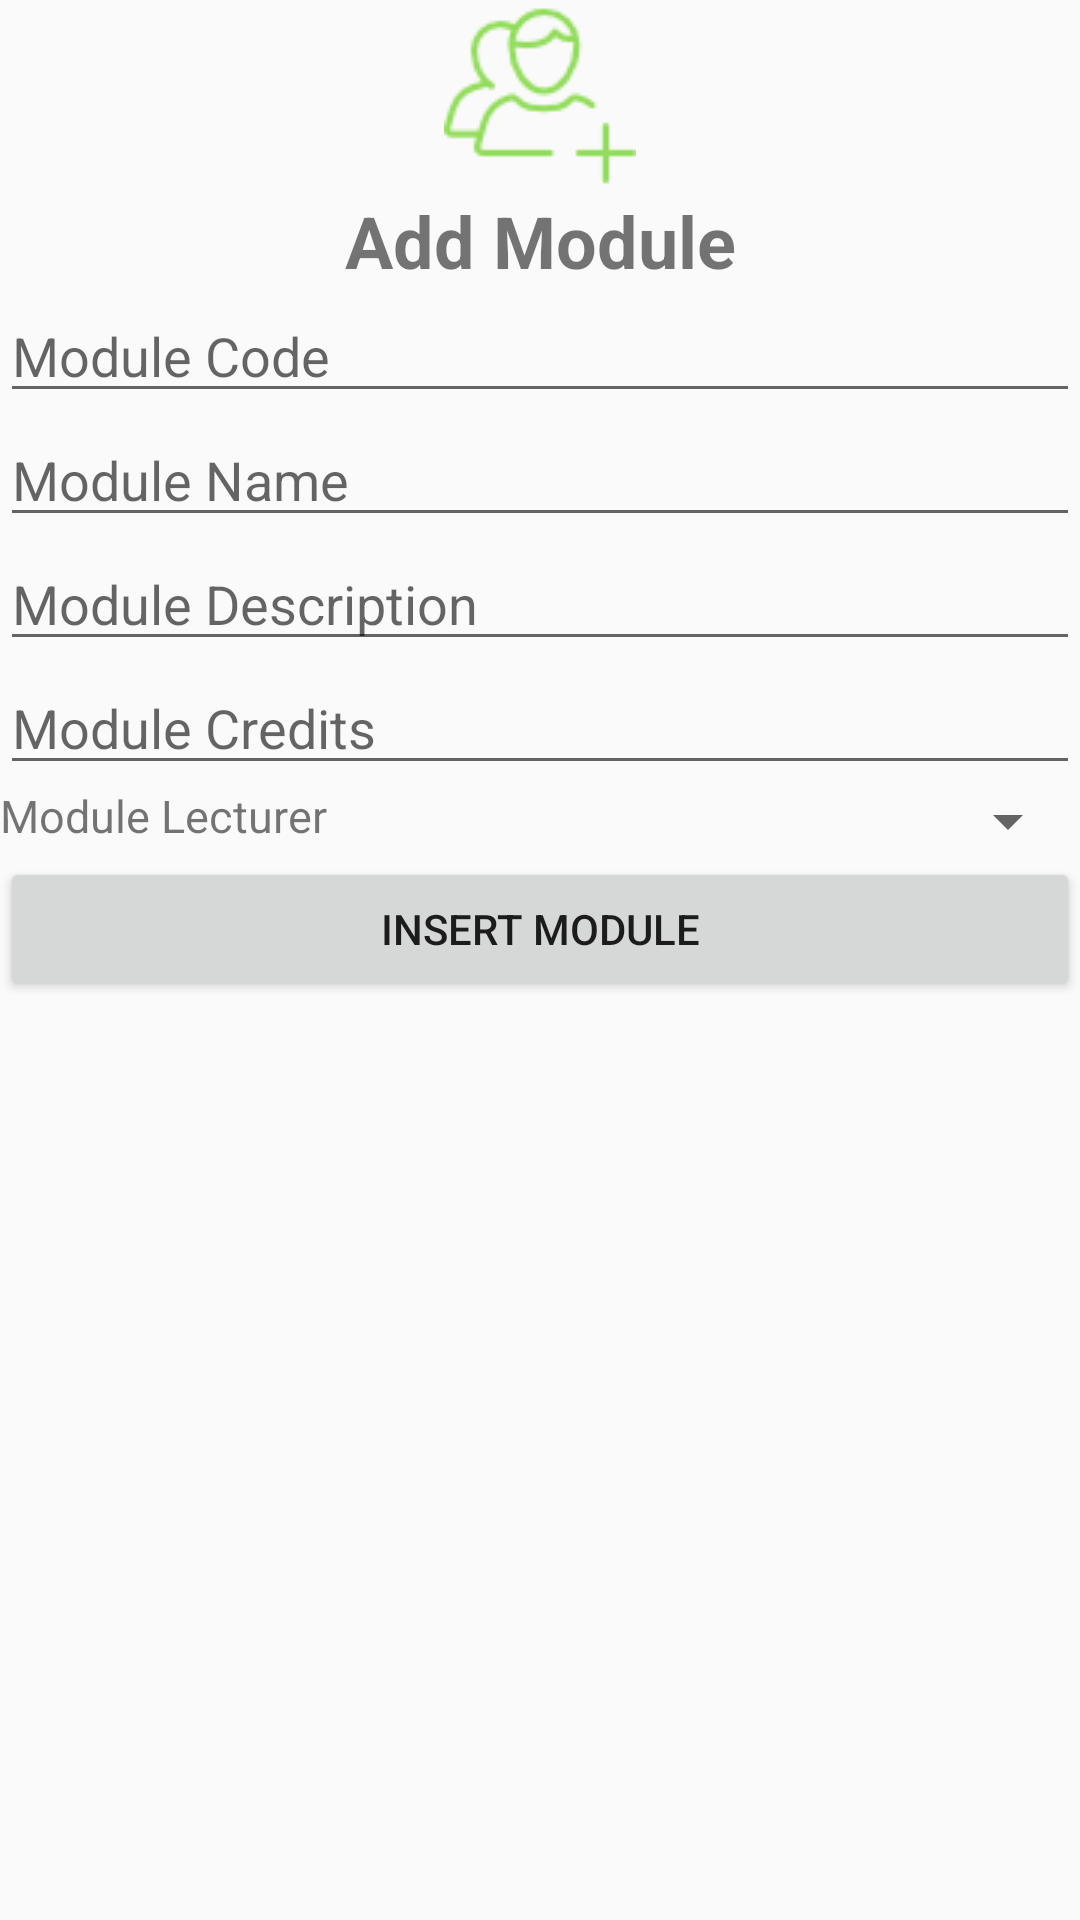

Icon bounding boxes for this 1080x1920 phone screenshot, format BBox(x1, y1, x2, y2):
adduser: BBox(444, 8, 636, 184)
